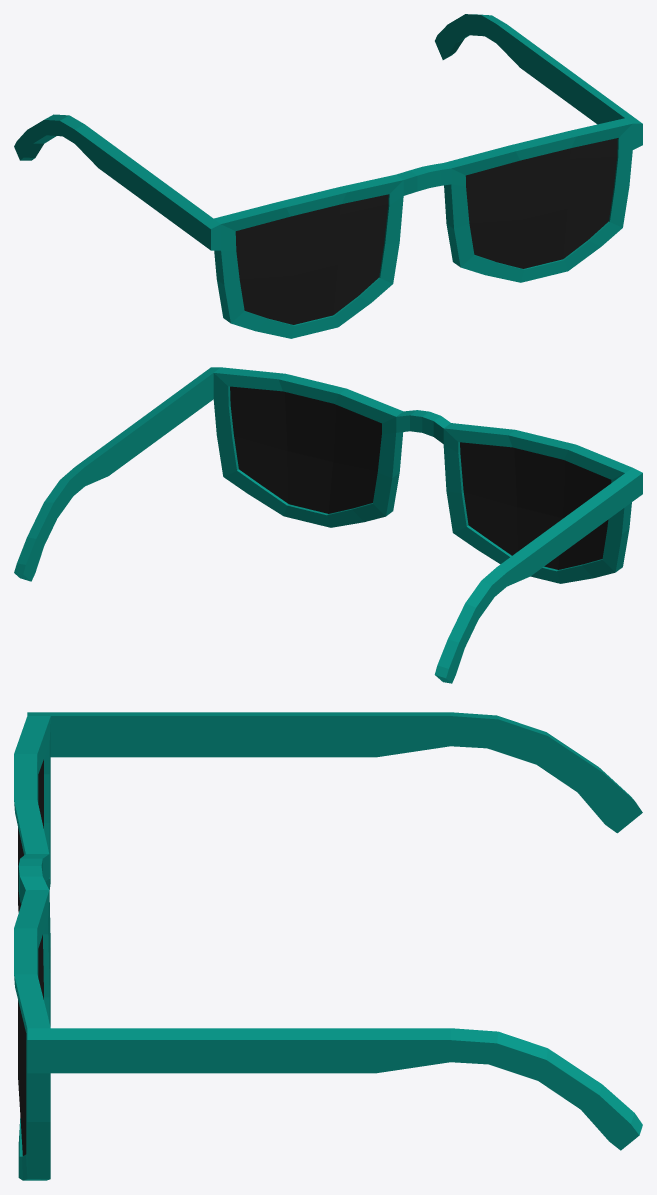
Rendered from Sunglasses_01.fbx.
3 renders of one model, top to bottom at view 1: azimuth 30°, elevation 25°; view 2: azimuth 150°, elevation 25°; view 3: azimuth 270°, elevation 25°, orthographic. The views are drawn at different scales.
Parts seen in each view (by area): view 1: default; view 2: default; view 3: default.
Part boxes in pixels (box(x1,y1,x2,y2)): default: box(14, 14, 642, 338); default: box(14, 367, 642, 683); default: box(14, 712, 642, 1180).
Bounding box in the file's own units: 33.04 × 9.82 × 26.79.
